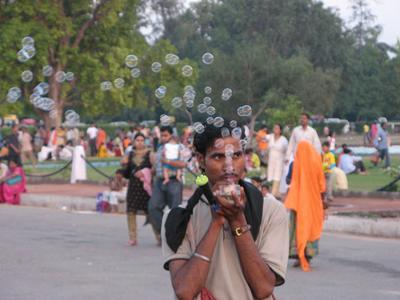person: (159, 110, 294, 300)
